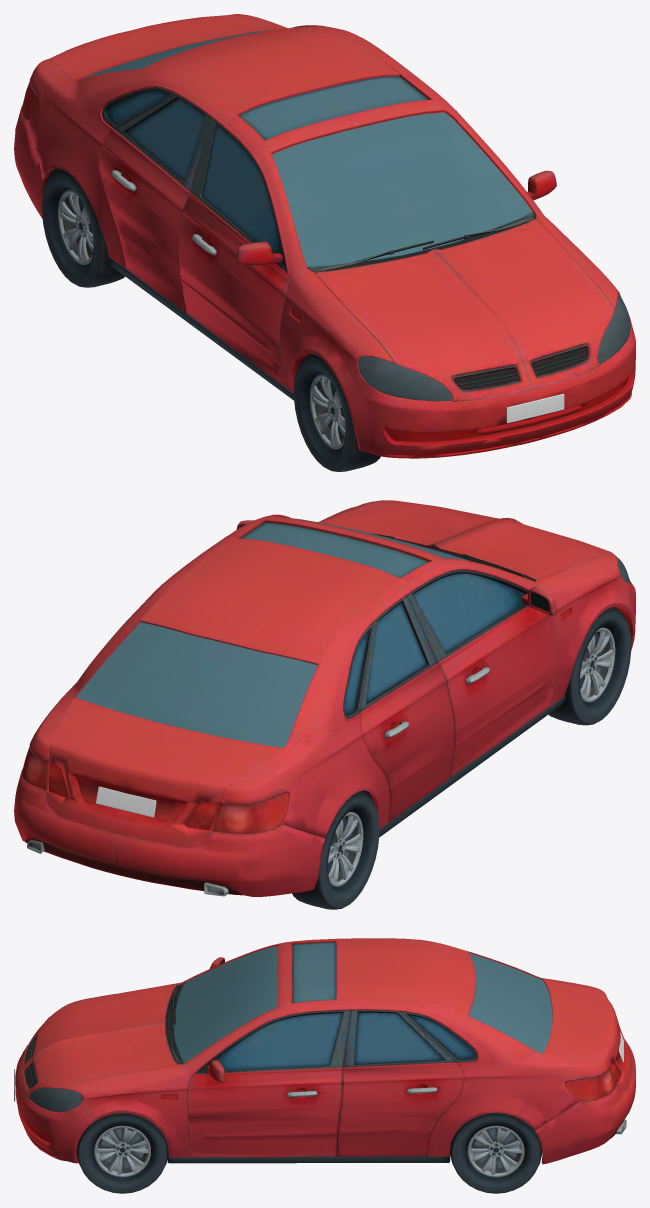
The model's file is sedan.glb.
3 renders of one model, top to bottom at view 1: azimuth 30°, elevation 25°; view 2: azimuth 150°, elevation 25°; view 3: azimuth 270°, elevation 25°, orthographic. The views are drawn at different scales.
Size of the model in its own units: 1.35 by 0.9828 by 3.08.
Materials: 2 (2 with a texture image).
